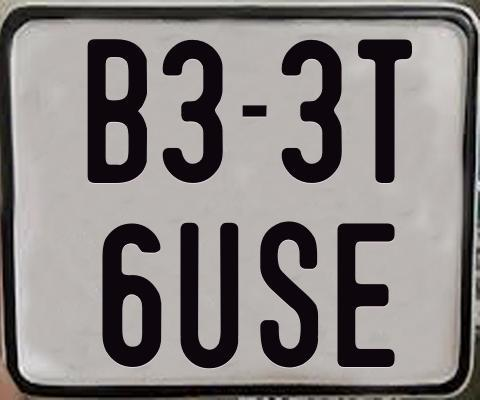3: (163, 39, 223, 188), (282, 39, 342, 187)
6: (99, 221, 162, 370)
B: (86, 38, 148, 188)
E: (337, 221, 400, 366)
S: (258, 218, 318, 365)
T: (355, 39, 411, 189)
U: (180, 220, 244, 371)
